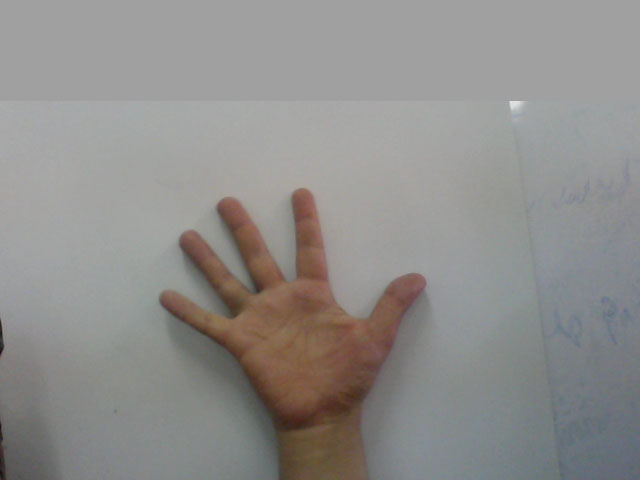hand: (153, 178, 436, 409)
